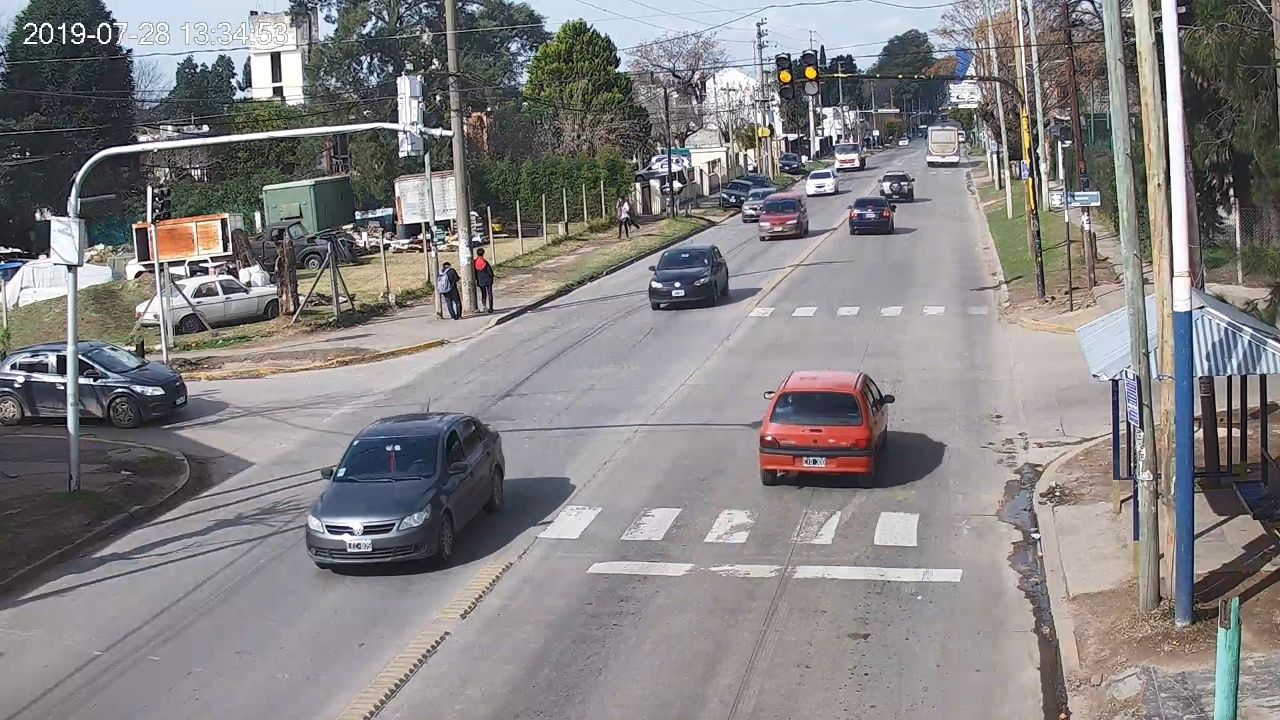car: (759, 370, 895, 487), (847, 197, 897, 235)
front car: (306, 411, 505, 570), (649, 244, 728, 309)
traffic light: (776, 53, 794, 98), (802, 51, 819, 94)
